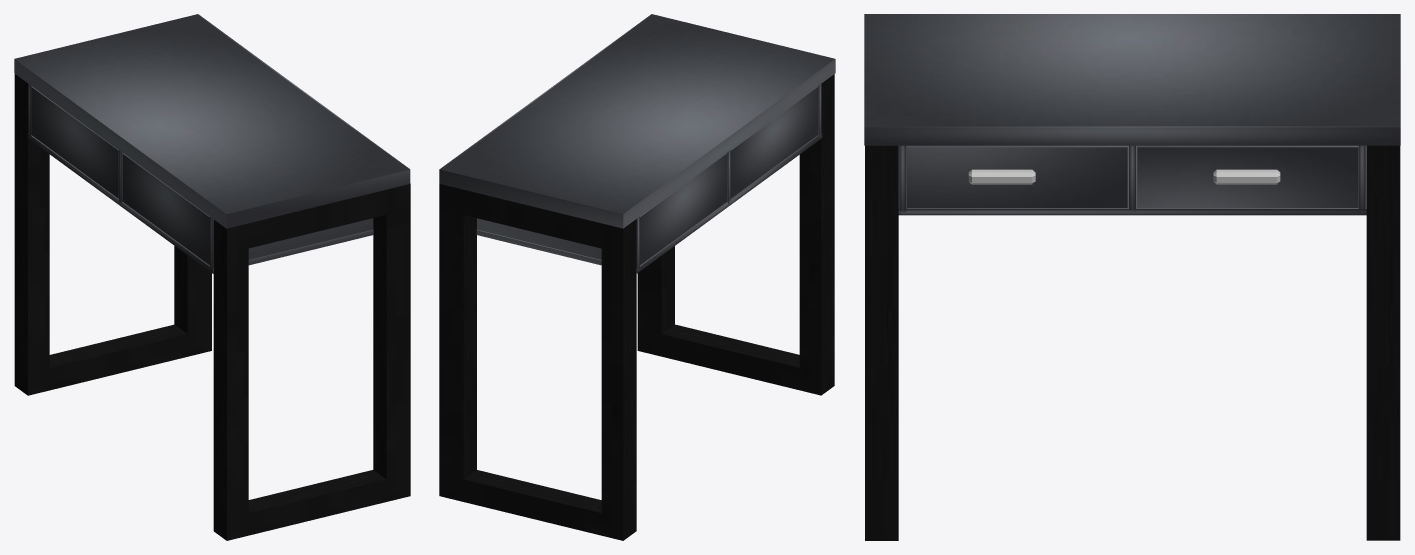
The model's file is DESKUVOK.fbx.
3 views of the same model, side by side, from view 1: azimuth 30°, elevation 25°; view 2: azimuth 150°, elevation 25°; view 3: azimuth 270°, elevation 25° (orthographic). The views are drawn at different scales.
Parts seen in each view (by area): view 1: pCube1, pasted__pCube4, pCube4, pasted__pasted__pCube6, pasted__pCube6, pCube8, pCube7; view 2: pCube1, pCube4, pasted__pCube4, pasted__pCube6, pasted__pasted__pCube6, pCube8, pasted__pCube7; view 3: pCube1, pCube4, pasted__pCube4, pasted__pasted__pCube6, pasted__pCube6, pCube8, pasted__pCube9, pCube9.
Boxes of the visible parts, left/top/right/bottom form: pCube1: left=14, top=14, right=410, bottom=228; pasted__pCube4: left=213, top=183, right=410, bottom=540; pCube4: left=14, top=74, right=211, bottom=395; pasted__pasted__pCube6: left=31, top=86, right=118, bottom=198; pasted__pCube6: left=122, top=153, right=209, bottom=265; pCube8: left=27, top=133, right=373, bottom=273; pCube7: left=210, top=217, right=373, bottom=270; pCube1: left=439, top=14, right=835, bottom=228; pCube4: left=439, top=184, right=636, bottom=540; pasted__pCube4: left=637, top=74, right=834, bottom=395; pasted__pCube6: left=730, top=86, right=818, bottom=198; pasted__pasted__pCube6: left=640, top=153, right=727, bottom=264; pCube8: left=476, top=133, right=822, bottom=273; pasted__pCube7: left=477, top=216, right=639, bottom=270; pCube1: left=864, top=14, right=1400, bottom=145; pCube4: left=1366, top=145, right=1400, bottom=540; pasted__pCube4: left=865, top=145, right=898, bottom=540; pasted__pasted__pCube6: left=1137, top=145, right=1358, bottom=207; pasted__pCube6: left=907, top=145, right=1127, bottom=207; pCube8: left=898, top=145, right=1366, bottom=215; pasted__pCube9: left=1213, top=169, right=1280, bottom=184; pCube9: left=968, top=169, right=1035, bottom=184.
Bounding box in the file's own units: 4.22 × 6.8 × 8.
